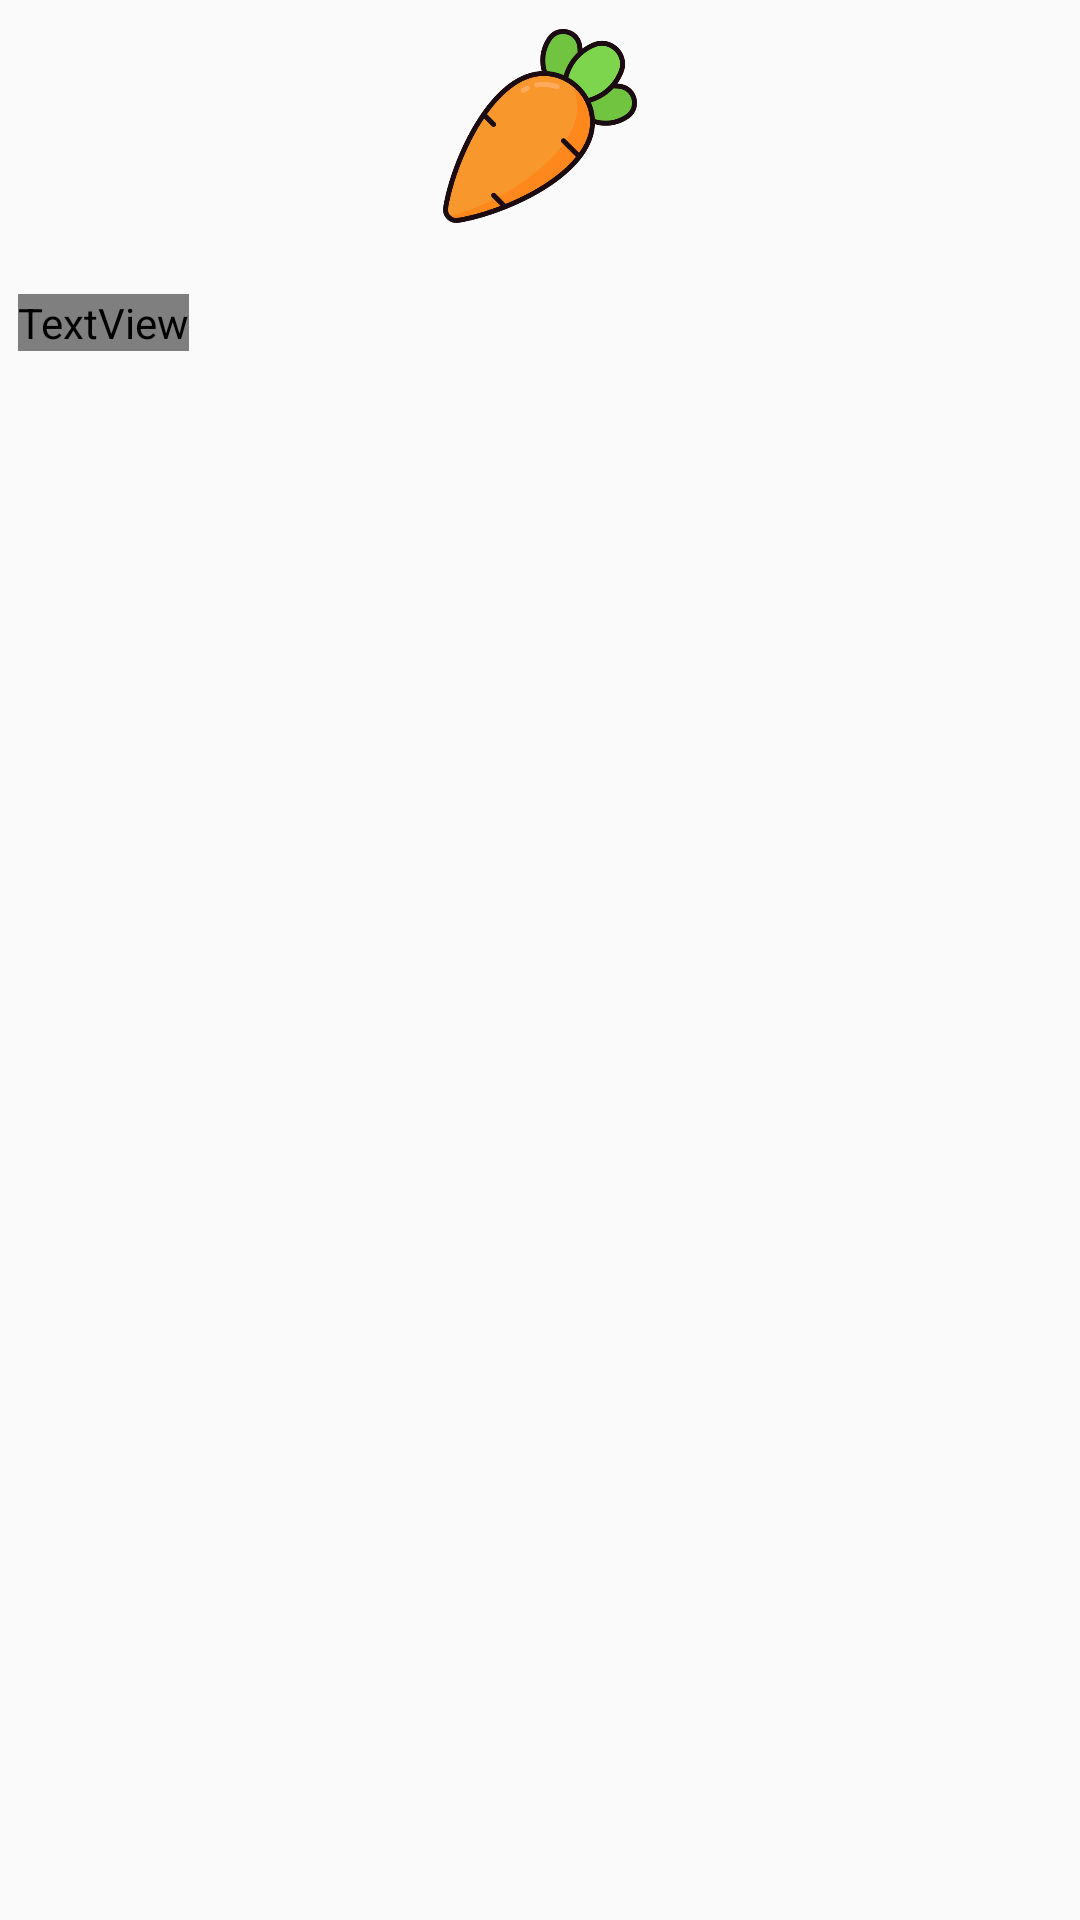

Screen size 1080px x 1920px. Icon name, then its box in pixels as (x1, y1, x2, y2):
carrot: (443, 29, 637, 223)
